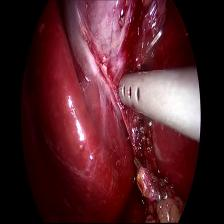Irrigator: (115, 66, 160, 120)
